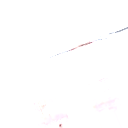crackTip: (47, 24, 128, 58)
